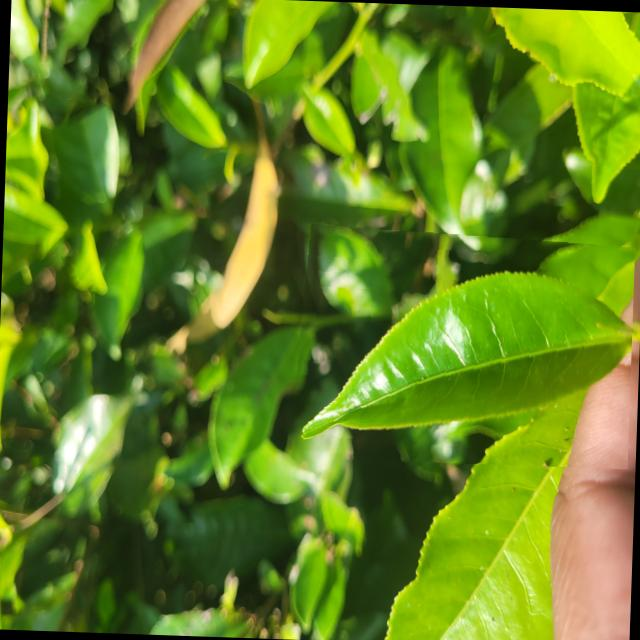Catagory A(1-2 days): (287, 222, 635, 468)
